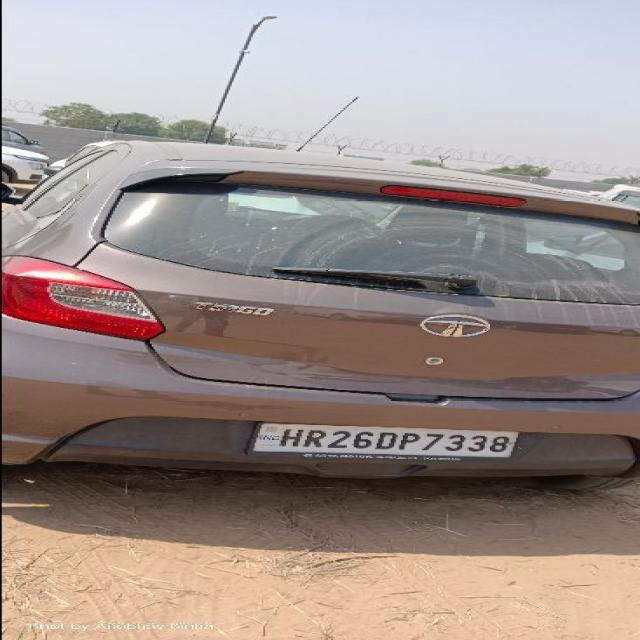license_plate: (246, 421, 520, 459)
